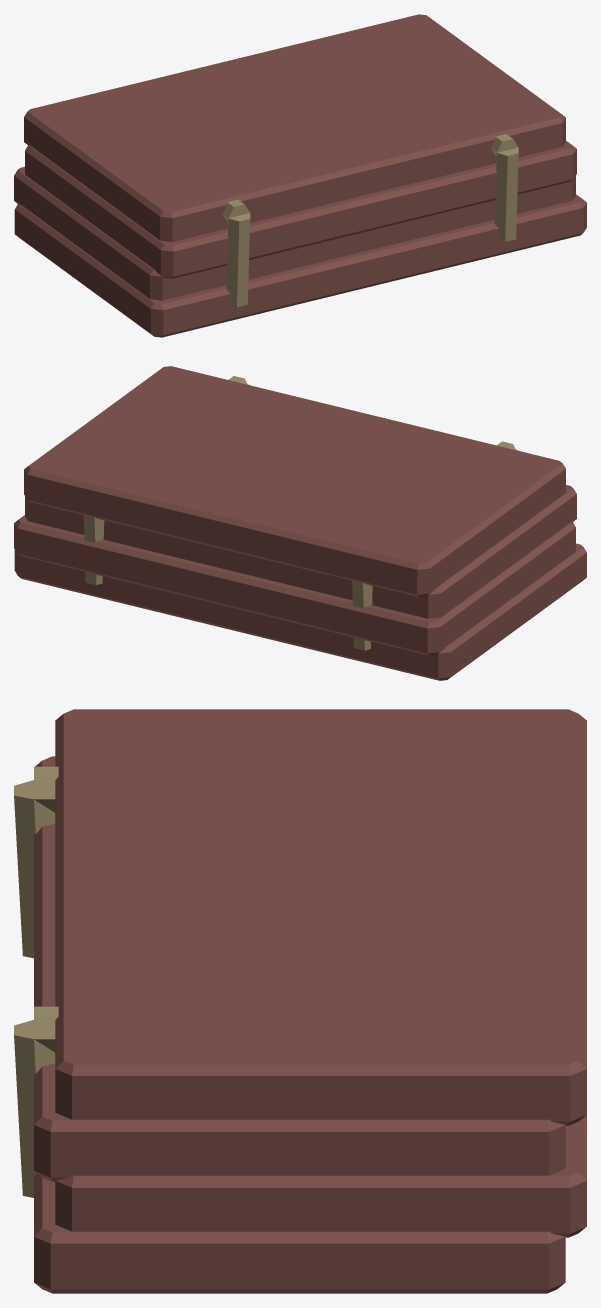
The model's file is folded-banner.glb.
3 views of the same model, one above another, from view 1: azimuth 30°, elevation 25°; view 2: azimuth 150°, elevation 25°; view 3: azimuth 270°, elevation 25° (orthographic). The views are drawn at different scales.
Visible parts, largest first — view 1: folded-banner__body; view 2: folded-banner__body; view 3: folded-banner__body.
Part boxes in pixels (x1,y1,x2,y2): folded-banner__body: (14,14,586,337); folded-banner__body: (14,366,586,680); folded-banner__body: (14,709,586,1293).
Bounding box in the file's own units: 0.338 × 0.0871 × 0.2101.
